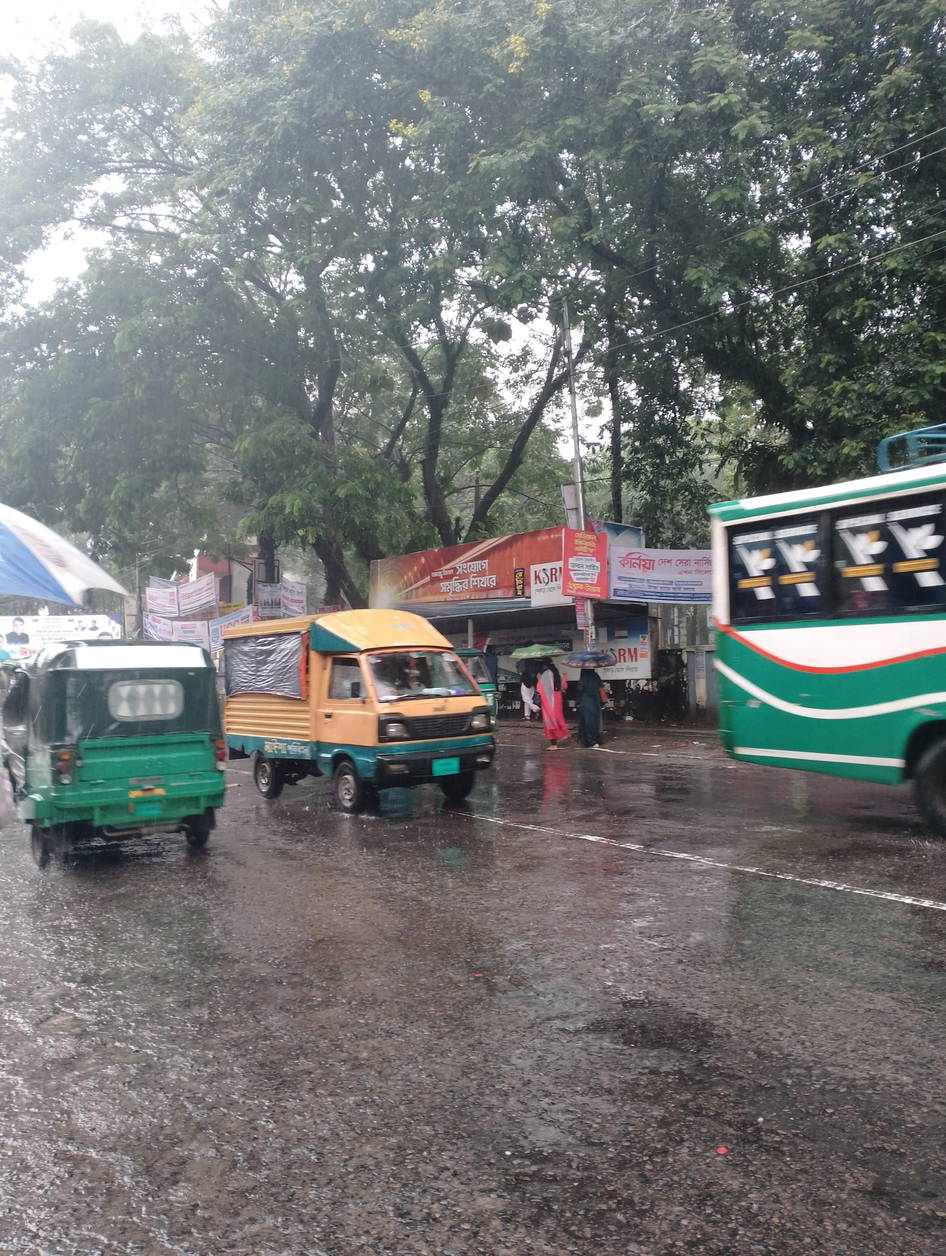Bus: (685, 380, 946, 853)
Car: (209, 599, 523, 838)
